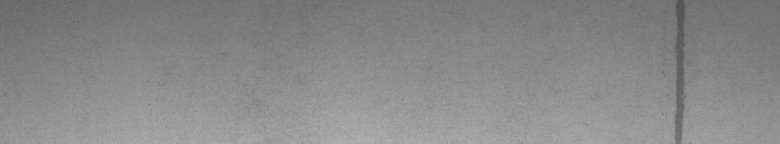hd: (669, 4, 689, 136)
